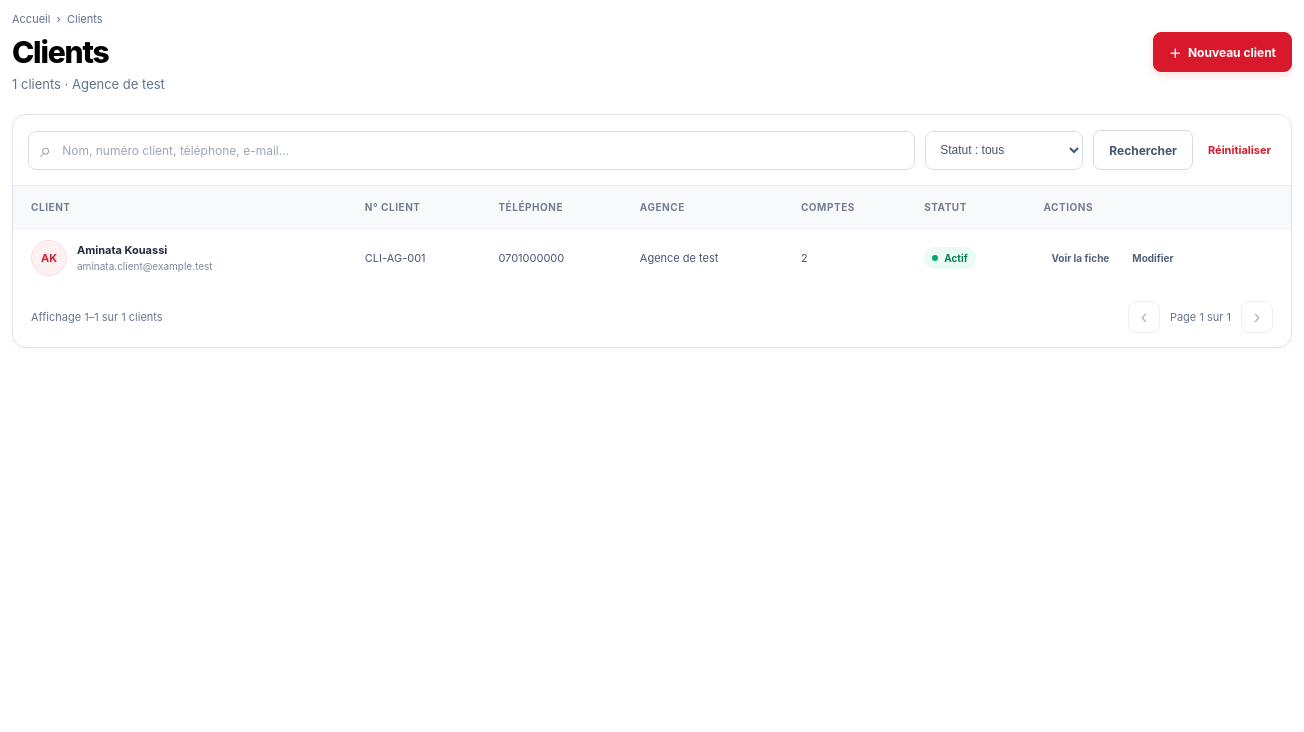
Test: opens the client detail using the accessible UUID endpoint
Step 1. Click the button with aria-label "Voir la fiche de Aminata Kouassi" → (1080, 258), box top-left (1044, 244), bottom-right (1117, 272)
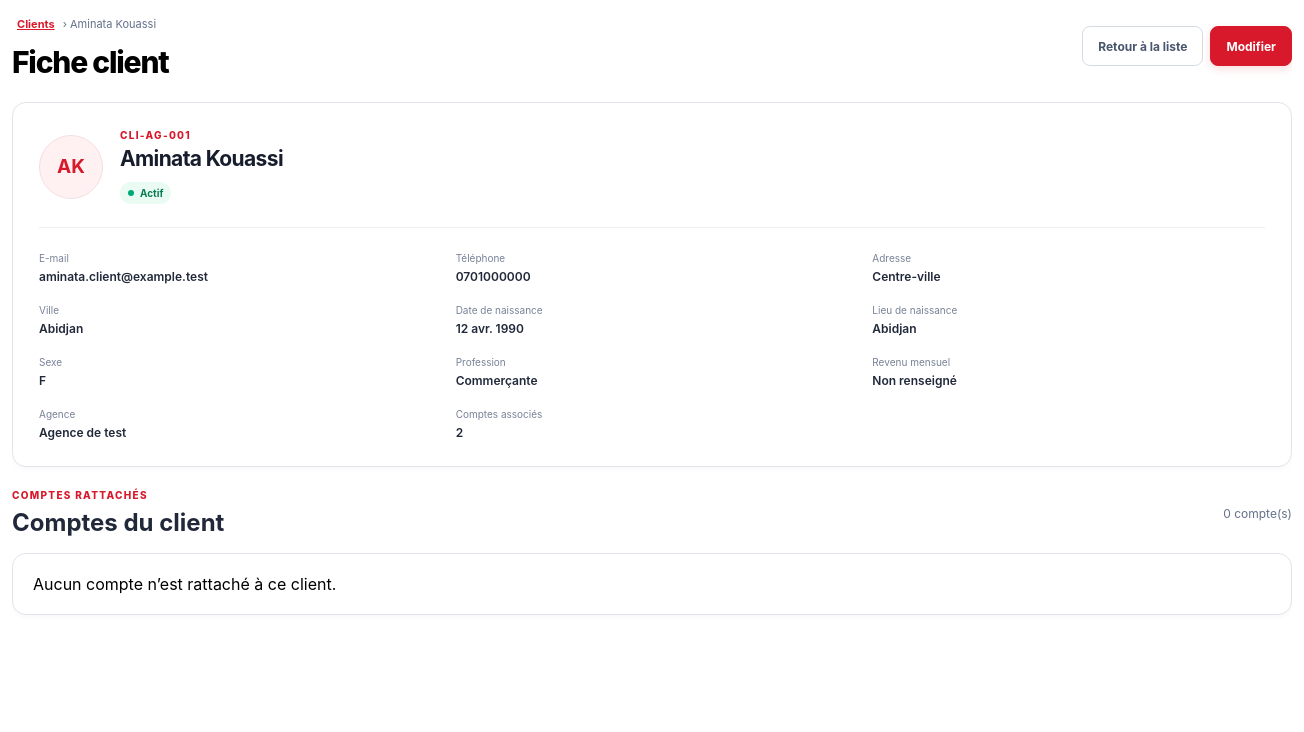
Expected: the heading "Fiche client" is shown, top-left (12, 44), bottom-right (168, 80)
Expected: the text "Commerçante" is shown, top-left (456, 373), bottom-right (538, 388)
Expected: the text "2" is shown, top-left (456, 425), bottom-right (463, 440)
